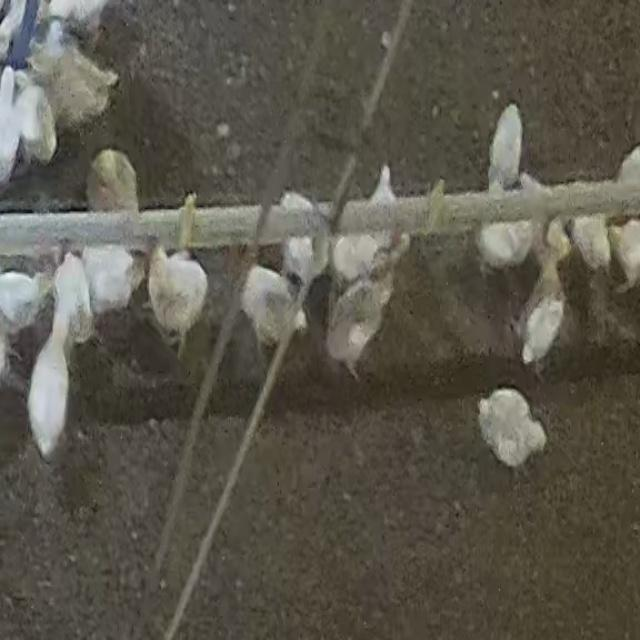chicken: (26, 304, 74, 461), (325, 270, 401, 364), (512, 250, 568, 369), (236, 255, 308, 340), (0, 272, 52, 387), (146, 242, 207, 338), (348, 168, 403, 270), (50, 45, 116, 128), (481, 396, 547, 472), (79, 242, 144, 319), (12, 71, 60, 165), (276, 192, 322, 280), (88, 145, 139, 220), (485, 105, 525, 192), (485, 198, 529, 274), (55, 259, 93, 340), (531, 176, 565, 258), (572, 216, 610, 276), (612, 214, 640, 285)
